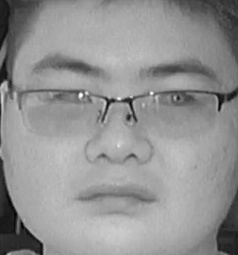eye: (53, 87, 94, 108), (155, 88, 192, 106)
glass: (129, 88, 223, 142), (22, 85, 111, 138)
mouth: (72, 181, 158, 218)
